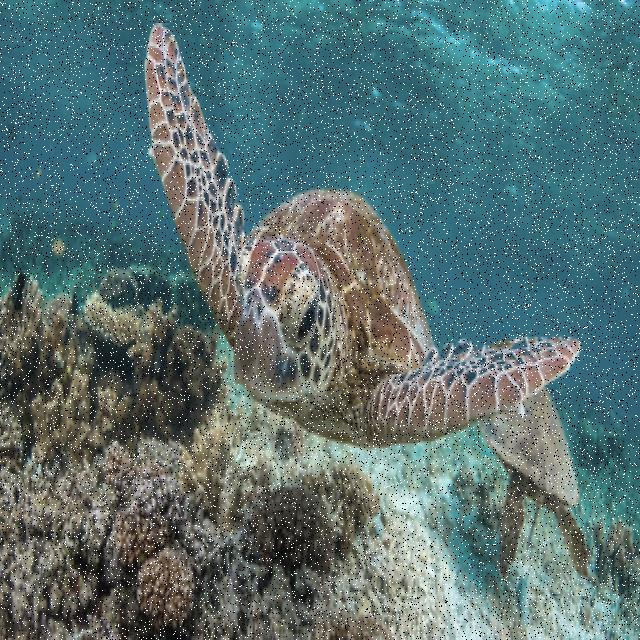tortoise: (128, 19, 586, 468)
